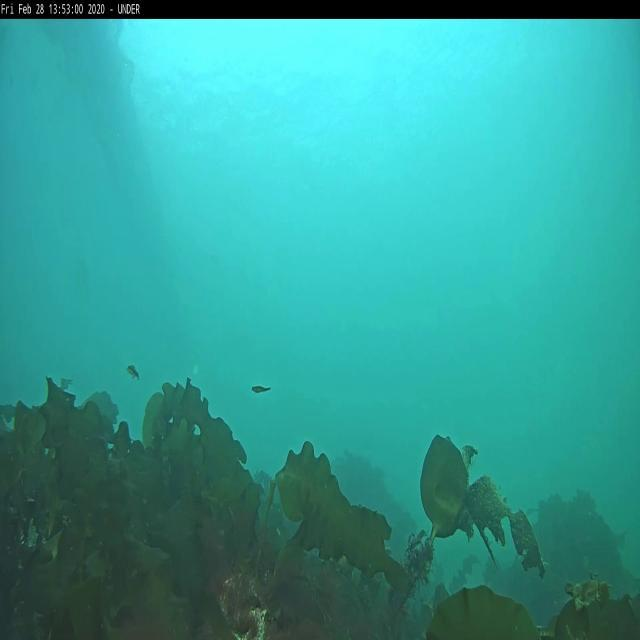fish: (252, 381, 272, 396), (126, 365, 142, 382)
